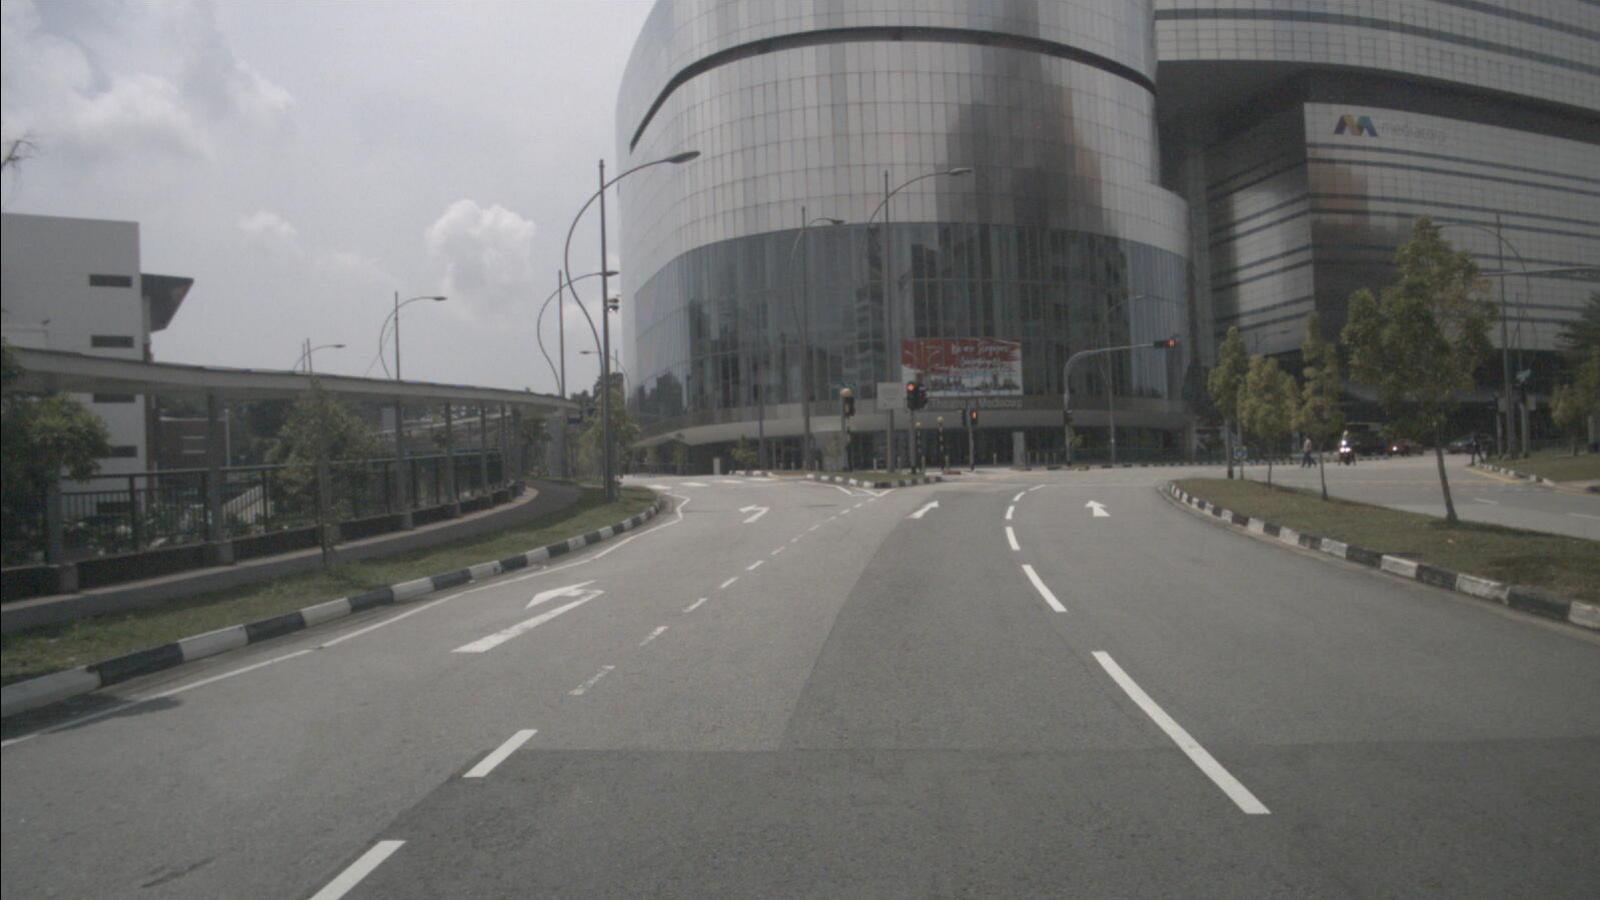human.pedestrian.adult-pedestrian.moving: (1468, 427, 1485, 467), (1298, 436, 1316, 470), (1298, 436, 1312, 469)
vehicle.motorcycle-cycle.with_rider: (1336, 430, 1356, 467)
